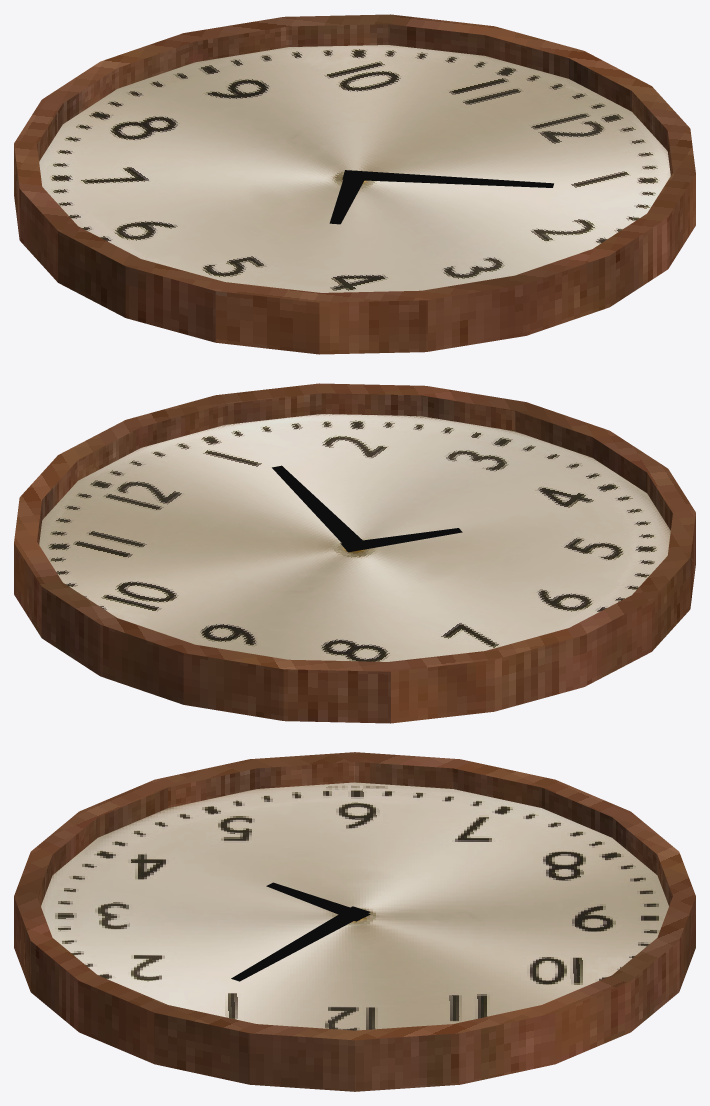
Rendered from Wallclock.glb.
The picture shows the model from 3 angles, top to bottom: view 1: azimuth 30°, elevation 25°; view 2: azimuth 150°, elevation 25°; view 3: azimuth 270°, elevation 25°; orthographic projection.
Parts seen in each view (by area): view 1: clock_0, minutes_2, hours_1; view 2: clock_0, minutes_2, hours_1; view 3: clock_0, minutes_2, hours_1.
Part boxes in pixels (x1,y1,x2,y2): clock_0: (14,14,695,354); minutes_2: (342,170,553,187); hours_1: (329,179,363,224); clock_0: (14,383,695,723); minutes_2: (272,465,369,550); hours_1: (340,528,462,552); clock_0: (14,752,695,1091); minutes_2: (231,906,370,981); hours_1: (266,882,370,921).
Bounding box in the file's own units: 0.6 × 0.05 × 0.6.
2 materials, 1 textured.
